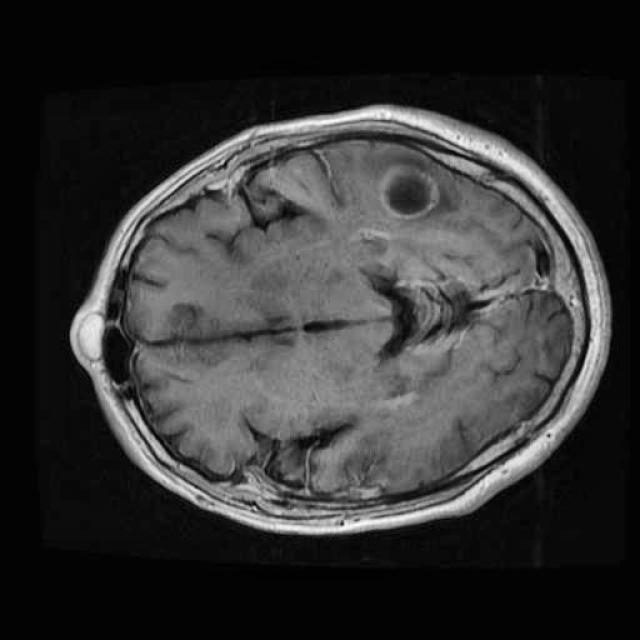Tumor: (363, 146, 463, 244)
